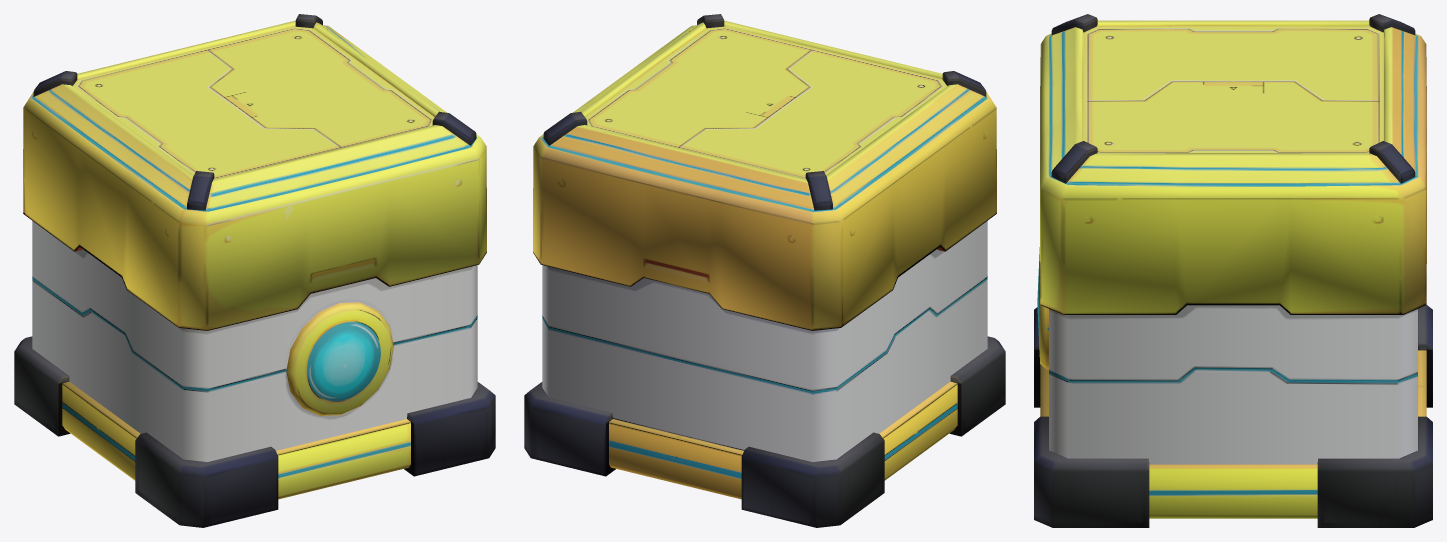
The model's file is SmallBox.fbx.
3 views of the same model, side by side, from view 1: azimuth 30°, elevation 25°; view 2: azimuth 150°, elevation 25°; view 3: azimuth 270°, elevation 25° (orthographic). The views are drawn at different scales.
Visible parts, largest first — view 1: SmallBox; view 2: SmallBox; view 3: SmallBox.
Boxes of the visible parts, <box> form: SmallBox: <box>14,14,495,527</box>; SmallBox: <box>524,14,1005,527</box>; SmallBox: <box>1034,14,1432,527</box>.
Size of the model in its own units: 100 by 100 by 100.
